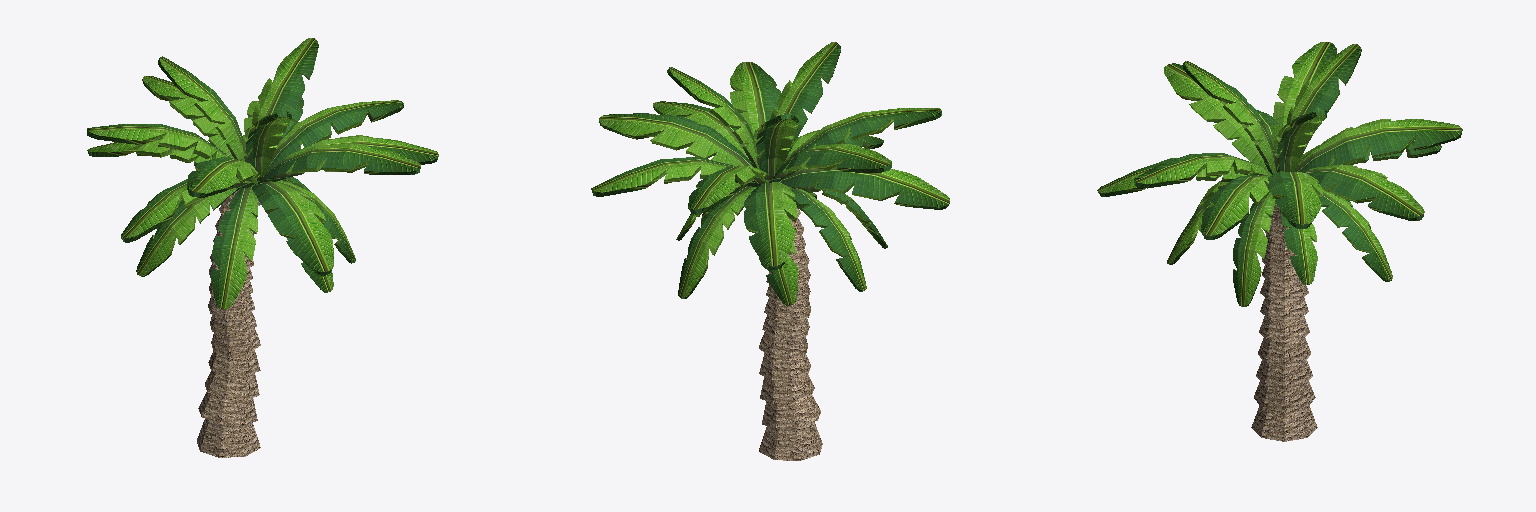
The picture shows the model from 3 angles: view 1: azimuth 30°, elevation 25°; view 2: azimuth 150°, elevation 25°; view 3: azimuth 270°, elevation 25°; orthographic projection.
Visible parts, largest first — view 1: Plane.004, Plane.012, Plane.005, Plane.006, Plane.018, Plane.010, Plane.020, Plane.008, Plane.009, Plane.003, Cube, Plane.019 (+10 smaller); view 2: Plane.003, Plane.006, Plane.002, Plane.016, Plane.009, Plane.019, Plane.001, Plane.008, Plane.005, Plane.010, Plane.007, Plane.018 (+12 smaller); view 3: Plane.007, Plane.001, Plane.014, Plane.009, Plane.011, Plane.005, Plane.019, Plane.020, Plane.016, Plane.006, Plane.008, Plane.018 (+11 smaller).
Boxes of the visible parts, <box> form: Plane.004: <box>252,181,333,275</box>; Plane.012: <box>211,184,257,309</box>; Plane.005: <box>262,144,420,181</box>; Plane.006: <box>267,100,403,171</box>; Plane.018: <box>252,38,318,123</box>; Plane.010: <box>136,188,239,276</box>; Plane.020: <box>158,56,244,161</box>; Plane.008: <box>87,124,228,159</box>; Plane.009: <box>187,157,261,197</box>; Plane.003: <box>121,177,253,242</box>; Cube: <box>197,419,260,457</box>; Plane.019: <box>242,111,291,176</box>; Plane.003: <box>781,167,949,209</box>; Plane.006: <box>599,113,752,166</box>; Plane.002: <box>744,182,797,269</box>; Plane.016: <box>678,185,756,298</box>; Plane.009: <box>784,108,941,163</box>; Plane.019: <box>771,42,840,157</box>; Plane.001: <box>591,157,760,196</box>; Plane.008: <box>773,143,891,181</box>; Plane.005: <box>730,62,780,144</box>; Plane.010: <box>779,182,866,291</box>; Plane.007: <box>688,166,773,214</box>; Plane.018: <box>667,67,759,168</box>; Plane.007: <box>1295,119,1462,171</box>; Plane.001: <box>1302,164,1424,220</box>; Plane.014: <box>1233,191,1275,306</box>; Plane.009: <box>1164,63,1271,170</box>; Plane.011: <box>1201,175,1271,239</box>; Plane.005: <box>1134,153,1271,188</box>; Plane.019: <box>1183,61,1276,174</box>; Plane.020: <box>1287,44,1361,146</box>; Plane.016: <box>1320,190,1392,281</box>; Plane.006: <box>1268,171,1322,228</box>; Plane.008: <box>1272,42,1336,153</box>; Plane.018: <box>1274,109,1326,172</box>.
Bounding box in the file's own units: 11.7 × 13.08 × 11.77.
2 materials, 2 textured.